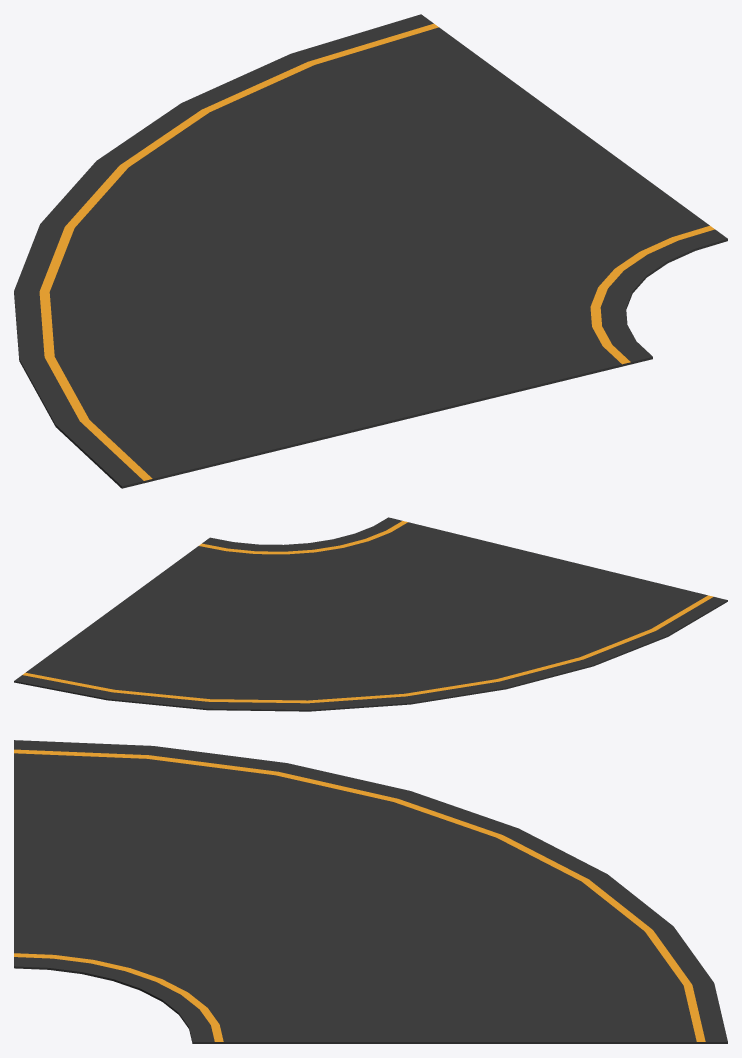
The model's file is SM_Racetrack_Plain_Turn_20x20m.fbx.
The picture shows the model from 3 angles, top to bottom: view 1: azimuth 30°, elevation 25°; view 2: azimuth 150°, elevation 25°; view 3: azimuth 270°, elevation 25°; orthographic projection. The views are drawn at different scales.
Parts seen in each view (by area): view 1: SM_Racetrack_Plain_Turn_20x20m; view 2: SM_Racetrack_Plain_Turn_20x20m; view 3: SM_Racetrack_Plain_Turn_20x20m.
Boxes of the visible parts, x1=… form: SM_Racetrack_Plain_Turn_20x20m: x1=14, y1=14, x2=727, y2=488; SM_Racetrack_Plain_Turn_20x20m: x1=14, y1=517, x2=727, y2=711; SM_Racetrack_Plain_Turn_20x20m: x1=14, y1=740, x2=727, y2=1043.
Bounding box in the file's own units: 16 × 0.05 × 16.
